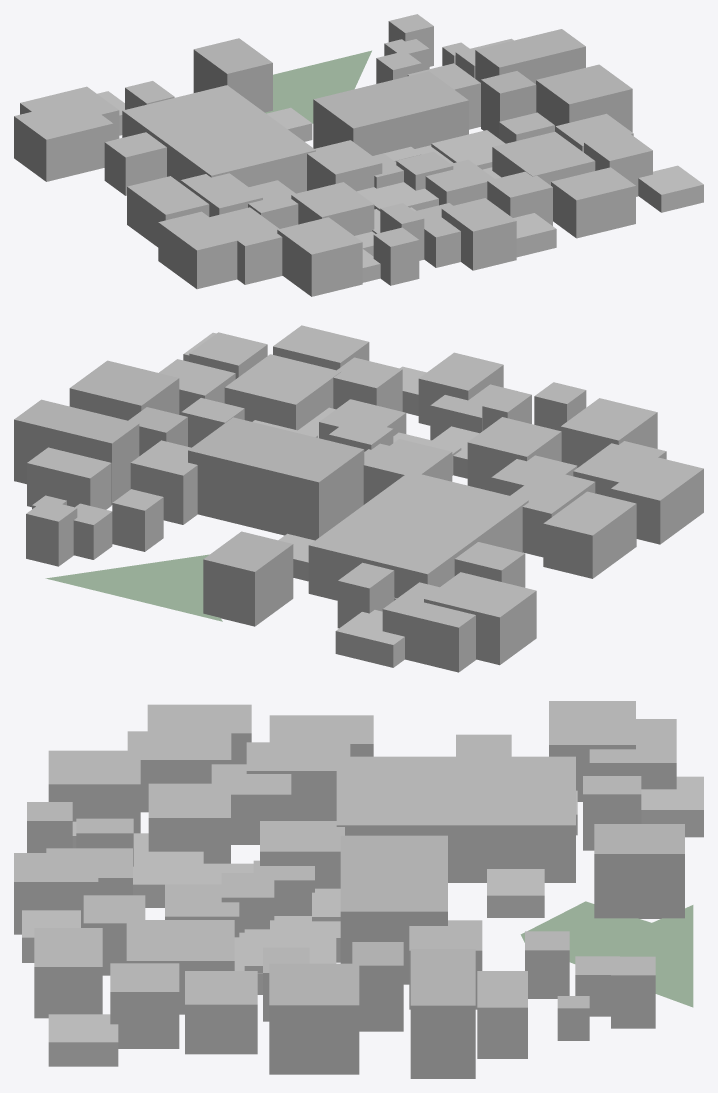
The model's file is 111_96_mid.glb.
3 views of the same model, one above another, from view 1: azimuth 30°, elevation 25°; view 2: azimuth 150°, elevation 25°; view 3: azimuth 270°, elevation 25° (orthographic). The views are drawn at different scales.
Bounding box in the file's own units: 565 × 60.84 × 514.
